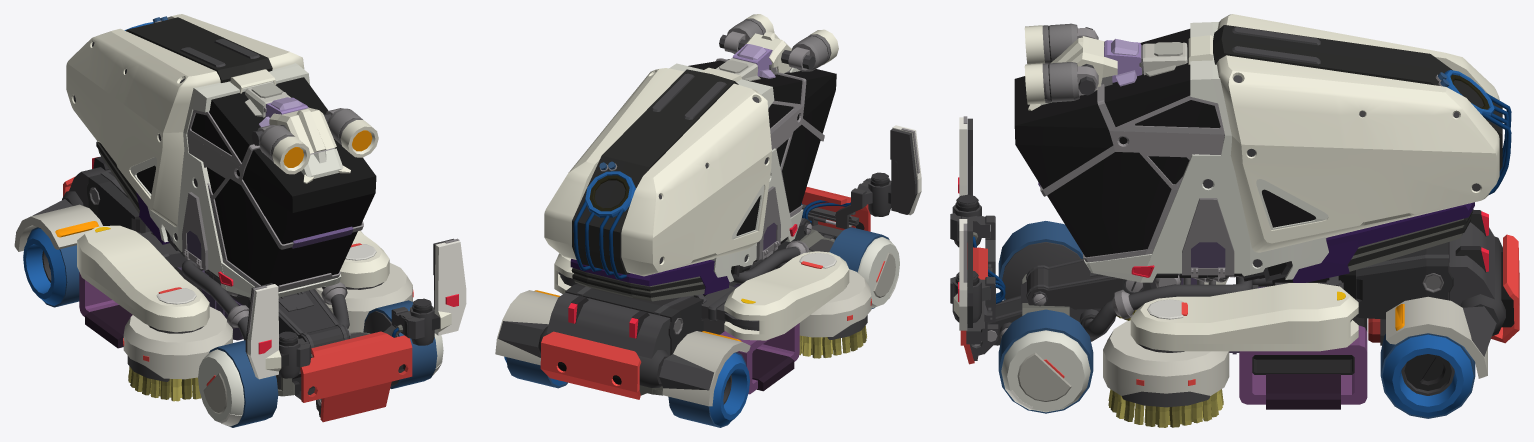
The model's file is CleanerDiveded1.fbx.
The picture shows the model from 3 angles, left to right: view 1: azimuth 30°, elevation 25°; view 2: azimuth 150°, elevation 25°; view 3: azimuth 270°, elevation 25°; orthographic projection. The views are drawn at different scales.
Parts seen in each view (by area): view 1: Cube.027, Cube.005, Cube.038, Cube.003, Cylinder.160, Cube.092, Cube.028, Cube.011, Cylinder.151, Cylinder.163, Cube.014, Cylinder.002 (+38 smaller); view 2: Cube.005, Cube.092, Cube.027, Cube.093, Plane, Cube.003, Cube.031, Cylinder.167, Cylinder.160, Cube.030, Cube.015, Cylinder.001 (+36 smaller); view 3: Cube.093, Cube.027, Cube.004, Cube.092, Cube.028, Cylinder.002, Cylinder.009, Cube.030, Cylinder.008, Cube.020, Cylinder.001, Cube.013 (+50 smaller).
Boxes of the visible parts, x1,y1,x2,y2 form: Cube.027: (191,77,376,286); Cube.005: (66,28,220,226); Cube.038: (300,331,412,422); Cube.003: (77,225,209,319); Cylinder.160: (123,306,232,379); Cube.092: (126,17,272,82); Cube.028: (178,132,226,290); Cube.011: (434,240,466,335); Cylinder.151: (209,340,278,427); Cylinder.163: (23,228,66,305); Cube.014: (247,284,278,379); Cylinder.002: (315,263,412,332); Cube.005: (621,83,771,276); Cube.092: (572,69,738,274); Cube.027: (688,59,836,212); Cube.093: (544,68,684,259); Plane: (540,331,641,399); Cube.003: (724,251,849,320); Cube.031: (546,292,670,358); Cylinder.167: (662,331,750,406); Cylinder.160: (799,269,871,337); Cube.030: (565,283,703,355); Cube.015: (890,128,917,214); Cylinder.001: (495,290,558,365); Cube.093: (1216,55,1499,252); Cube.027: (1014,29,1224,257); Cube.004: (1130,283,1358,337); Cube.092: (1213,25,1502,170); Cube.028: (1140,135,1249,282); Cylinder.002: (1103,320,1229,395); Cylinder.009: (1382,334,1473,417); Cube.030: (1356,242,1452,319); Cylinder.008: (1001,330,1090,412); Cube.020: (1292,202,1474,282); Cylinder.001: (1386,296,1487,378); Cube.013: (1027,258,1151,309).
Size of the model in its own units: 790 by 769 by 1234.
